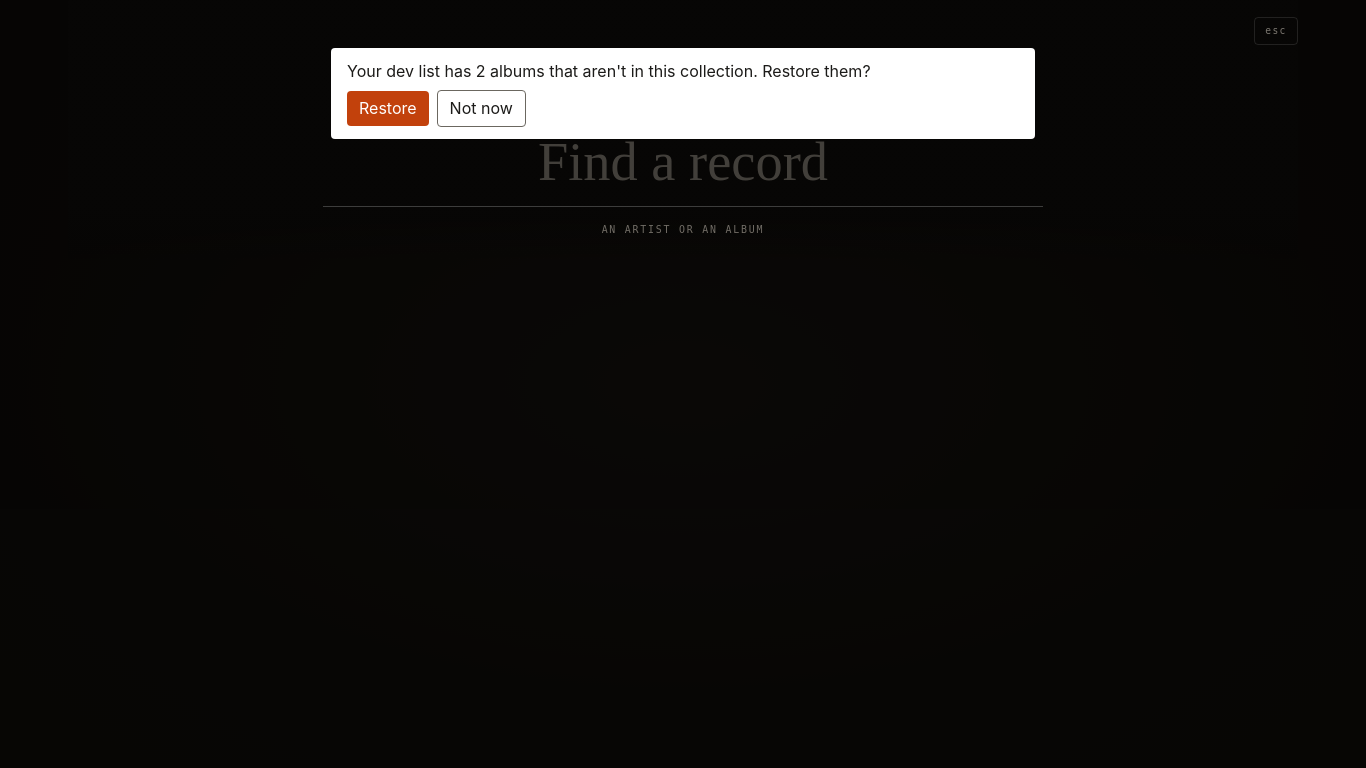
The dev list › offers to restore an empty collection, and restores it
Expected: the element "dev list" shows "Your dev list has 2 albums that aren't in this collection. Restore them?", [331,48,1035,139]
Click the button "Restore".
click(388, 109)  # box [347,91,429,126]
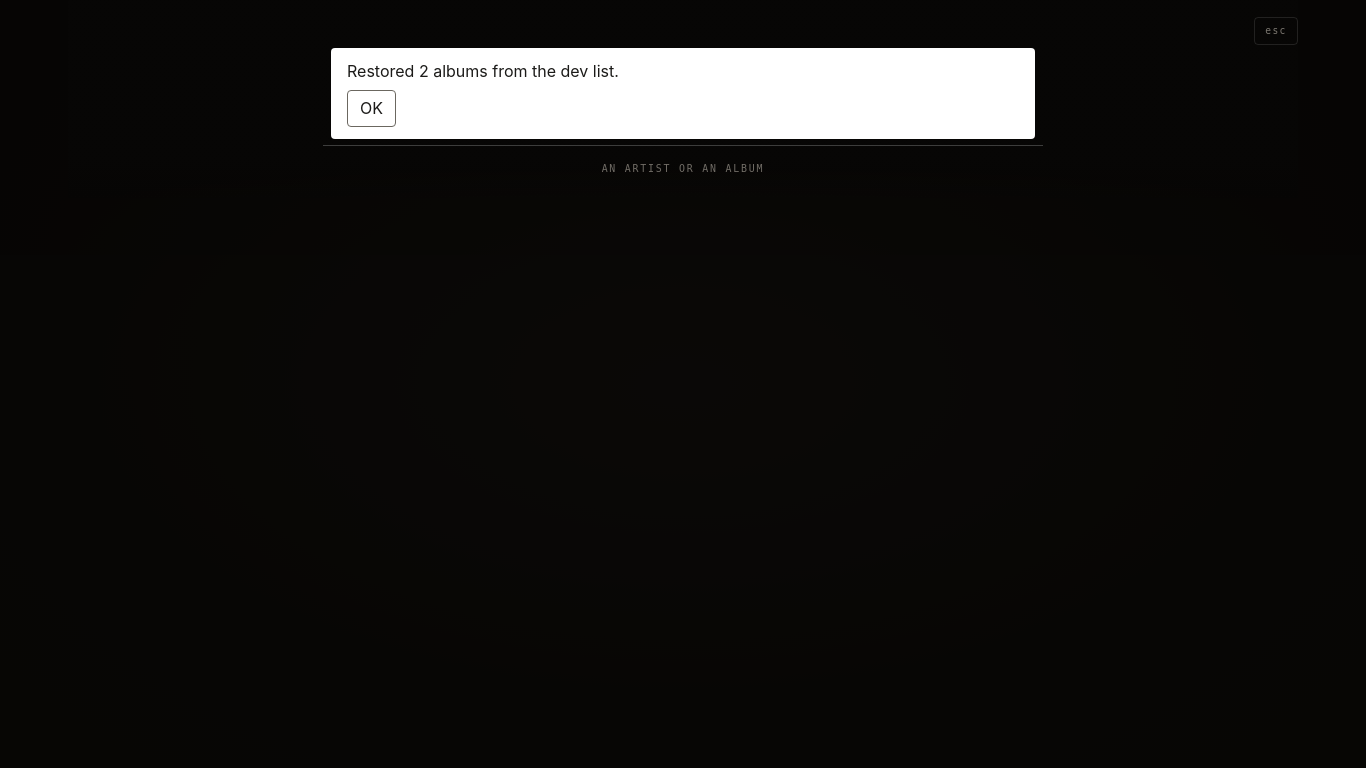
Now the text "Restored 2 albums from the dev list." is shown, box [347,61,619,81]
